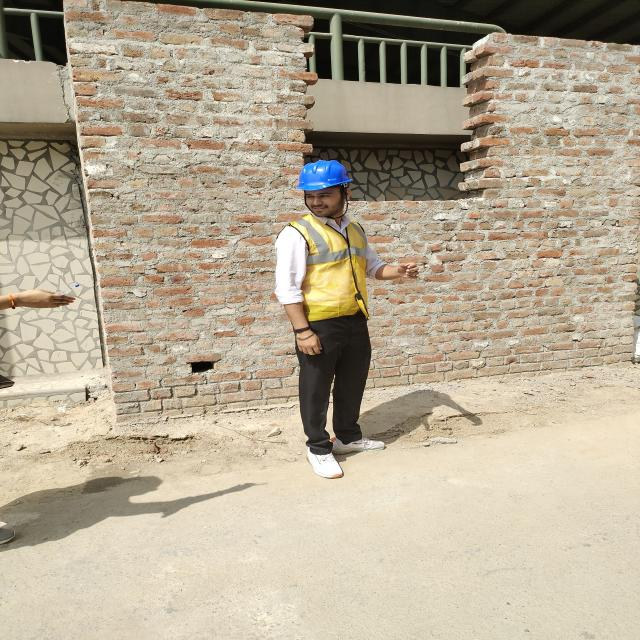safe: (277, 160, 371, 478)
